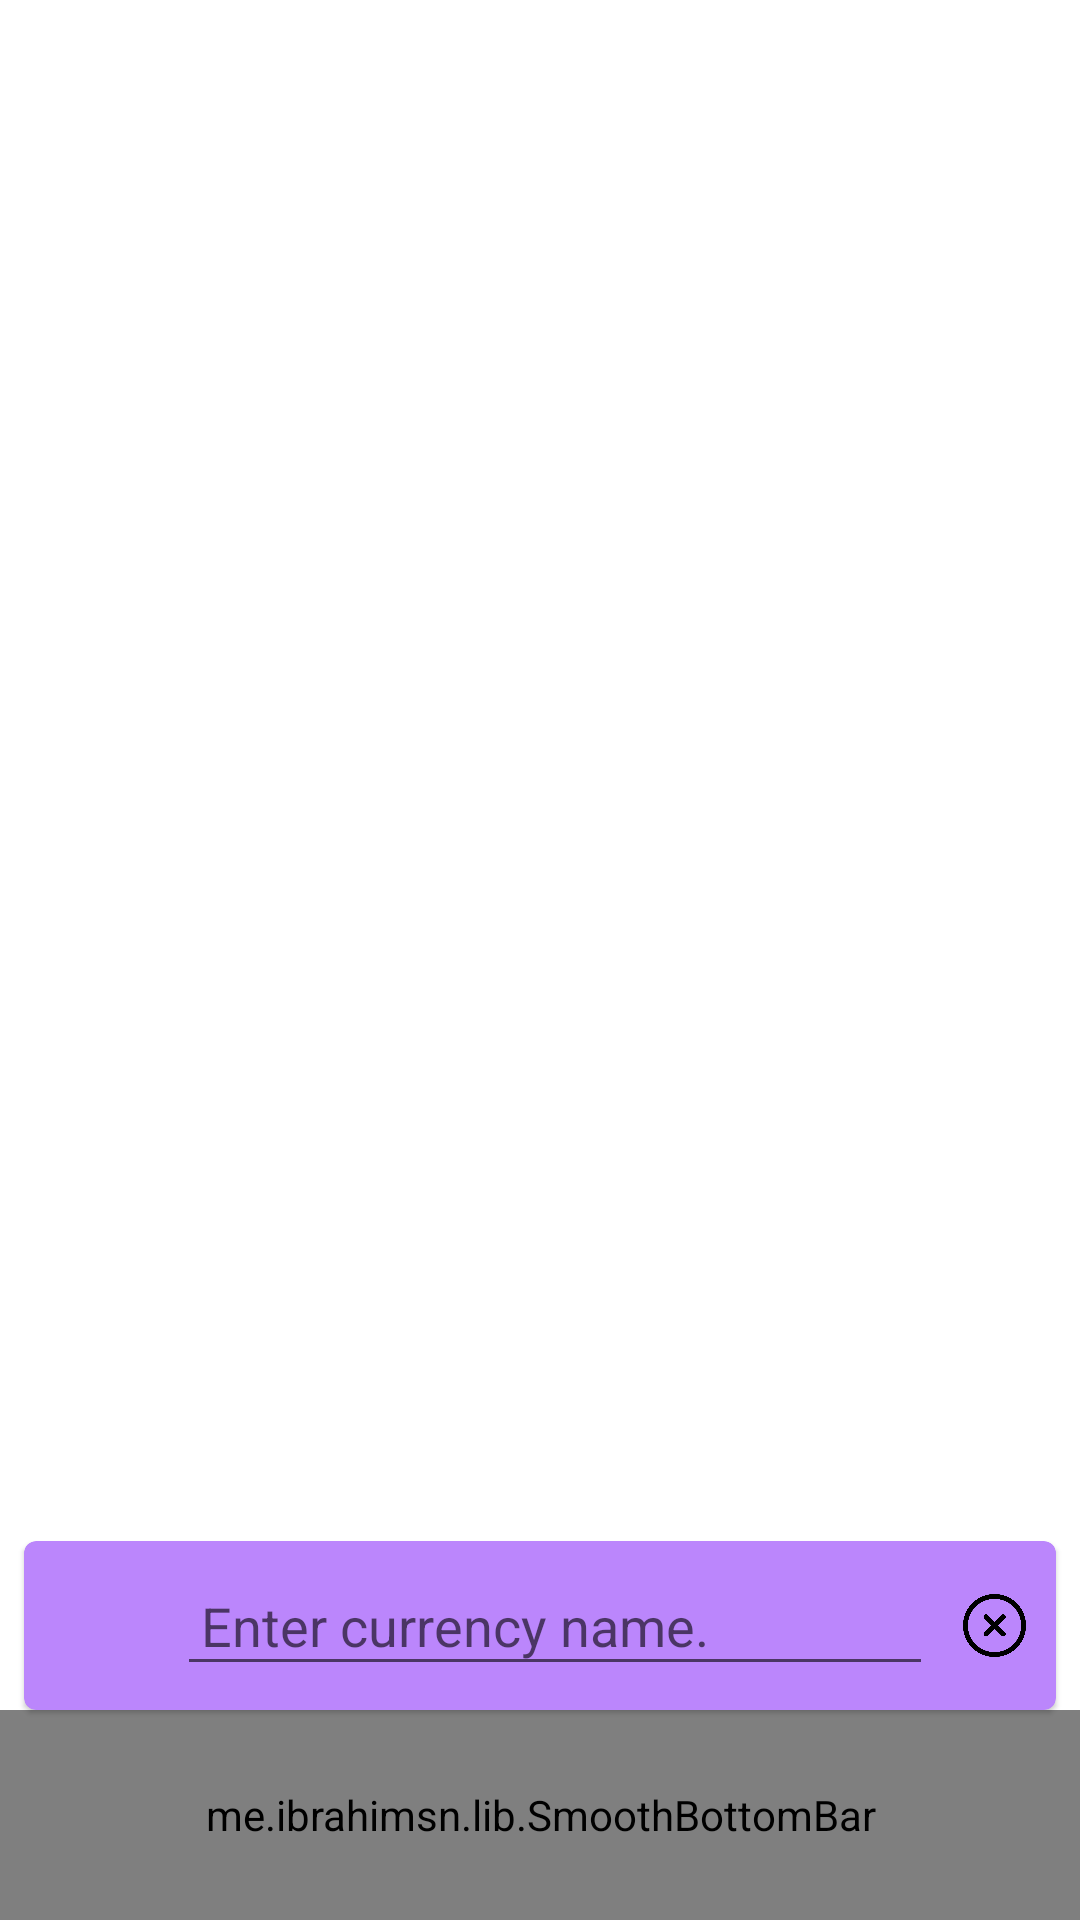

Icons on this 1080w x 1920h Android screen, each with the point to tap as (x=x, y=y):
cancel: (x=994, y=1625)
